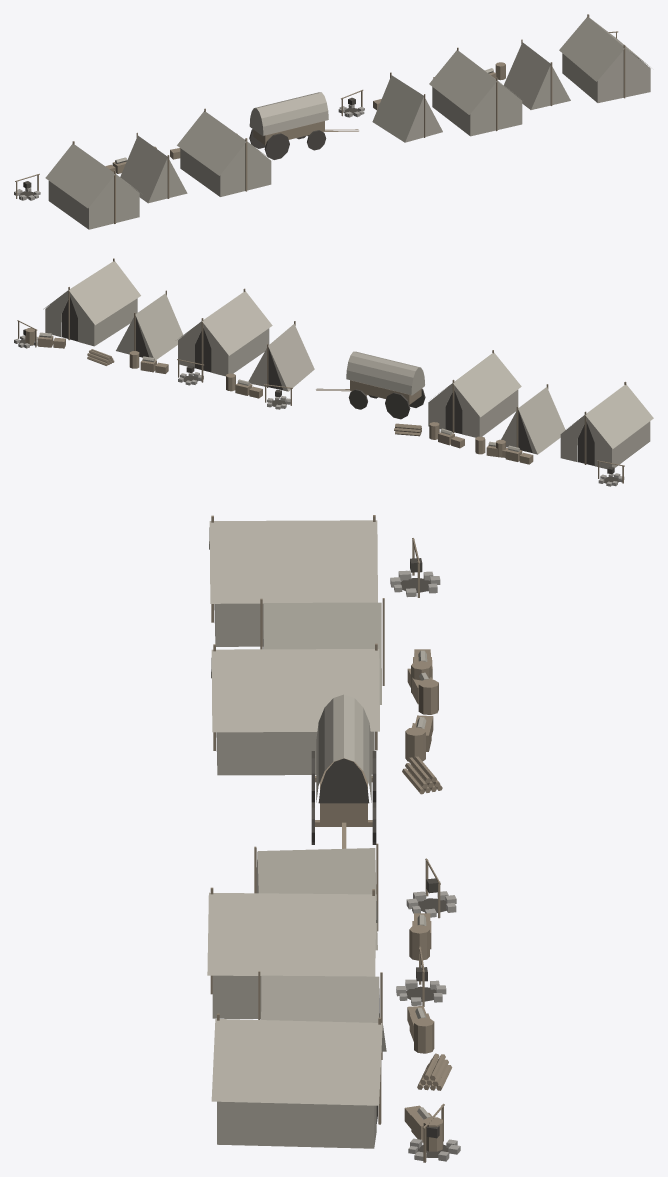
The model's file is landing_camp_west__camp_1835.glb.
3 renders of one model, top to bottom at view 1: azimuth 30°, elevation 25°; view 2: azimuth 150°, elevation 25°; view 3: azimuth 270°, elevation 25°, orthographic. The views are drawn at different scales.
Parts seen in each view (by area): view 1: landing_camp_west__camp_1835; view 2: landing_camp_west__camp_1835; view 3: landing_camp_west__camp_1835.
Part boxes in pixels (left/top/right/bottom): landing_camp_west__camp_1835: left=14, top=14, right=650, bottom=229; landing_camp_west__camp_1835: left=14, top=258, right=653, bottom=486; landing_camp_west__camp_1835: left=207, top=515, right=460, bottom=1162.
Size of the model in its own units: 32.46 by 2.71 by 5.88.
